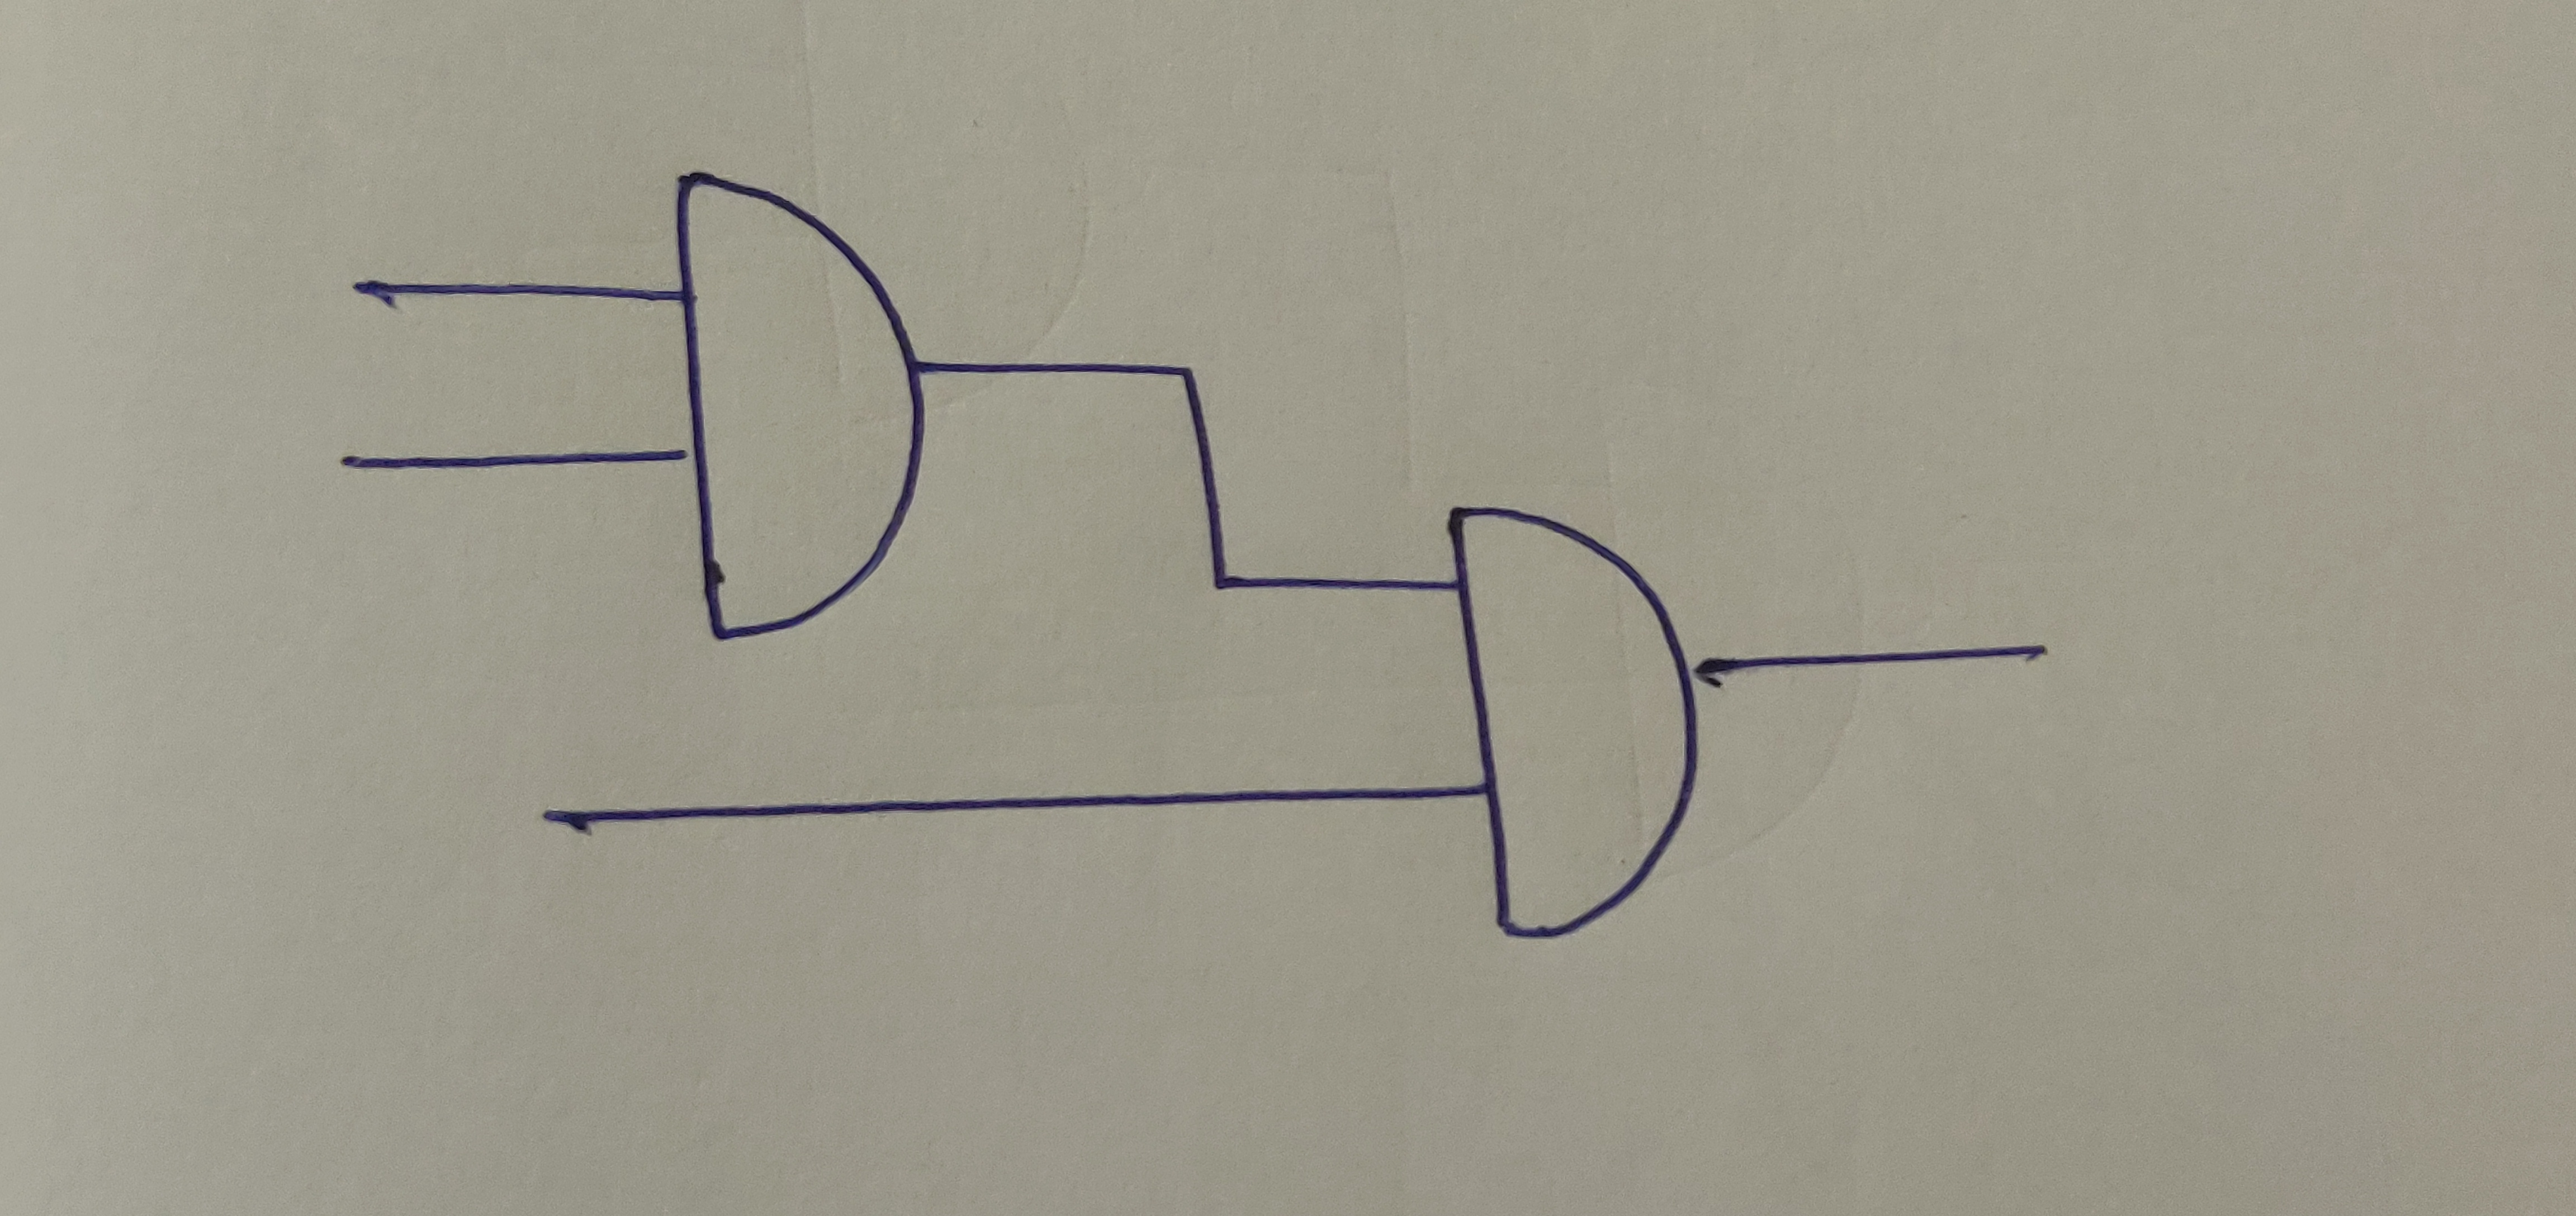and: (680, 169, 927, 644), (1442, 498, 1705, 942)
